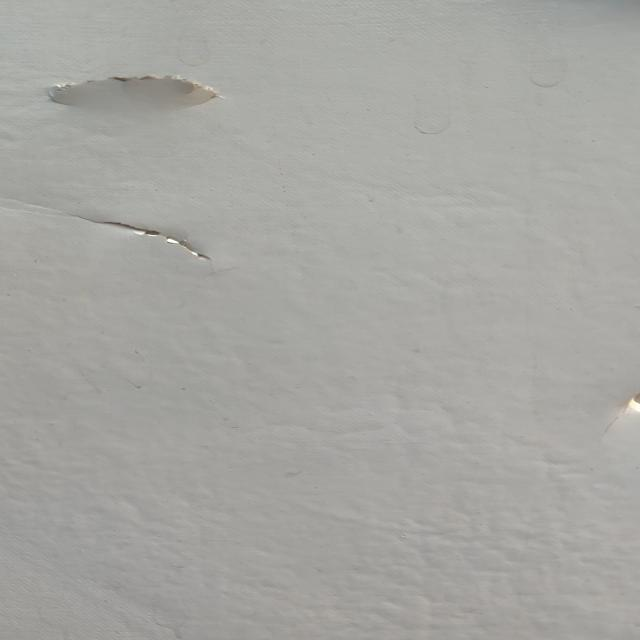Scratches: (39, 65, 256, 116), (50, 215, 232, 275)
